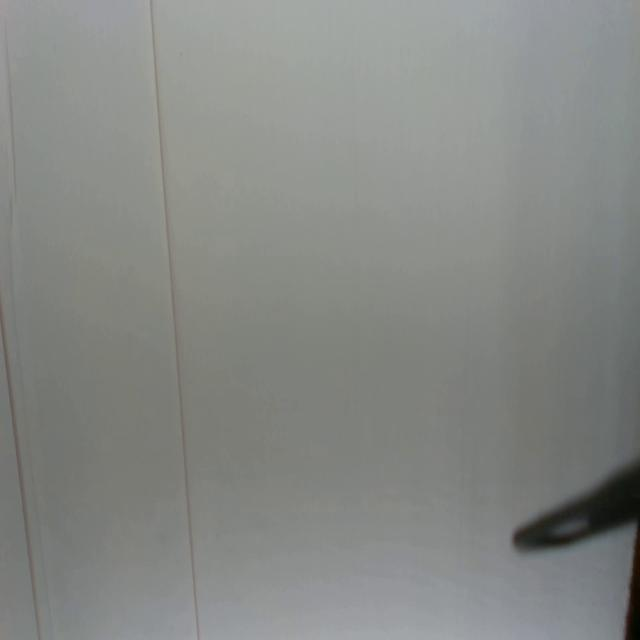crease: (148, 3, 201, 640), (0, 305, 42, 639), (4, 18, 20, 202)
